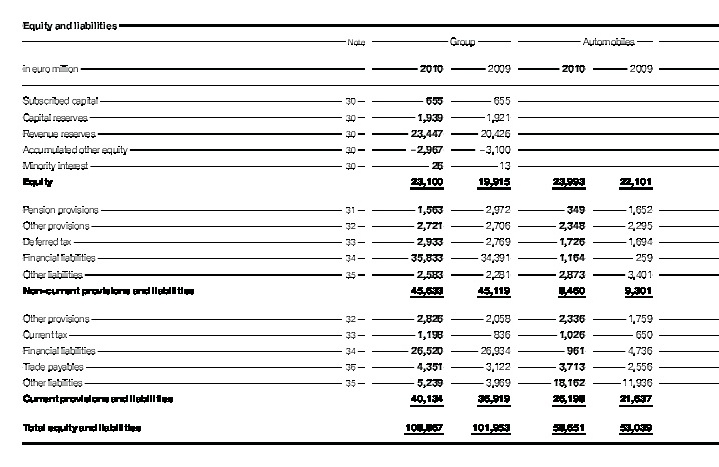table: (0, 0, 719, 467)
